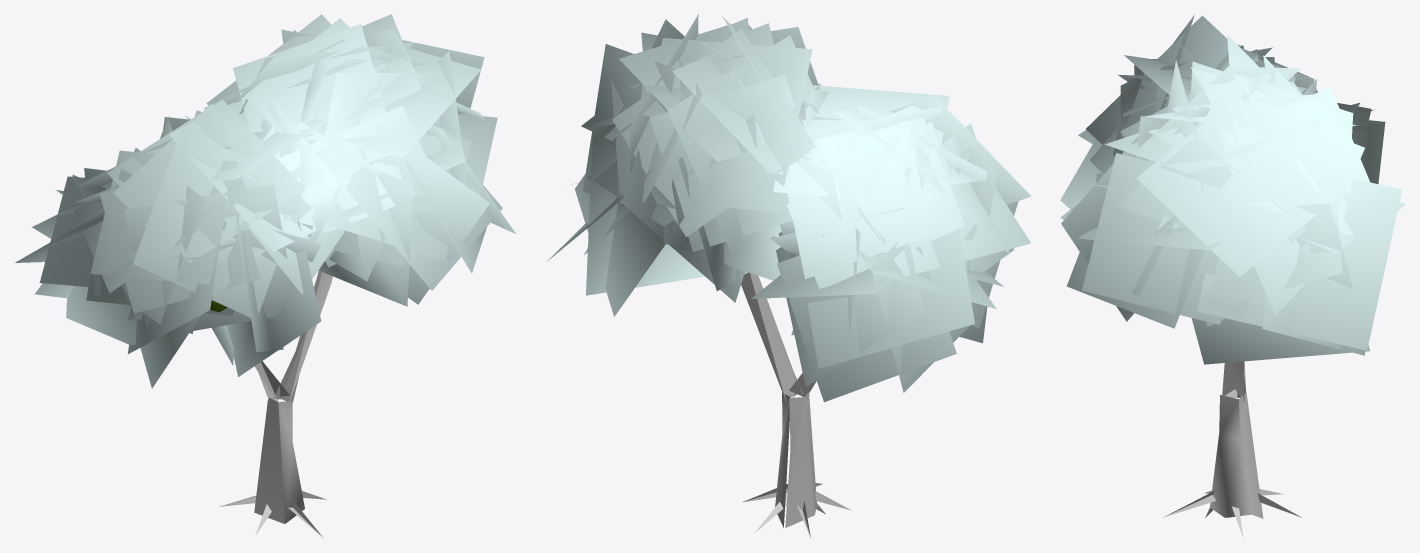
The model's file is foliage.oak_forked.gltf.
The picture shows the model from 3 angles, left to right: view 1: azimuth 30°, elevation 25°; view 2: azimuth 150°, elevation 25°; view 3: azimuth 270°, elevation 25°; orthographic projection. The views are drawn at different scales.
Parts seen in each view (by area): view 1: lod, lod.001; view 2: lod, lod.001; view 3: lod, lod.001.
Part boxes in pixels (x1,y1,x2,y2): lod: (15,14,515,388); lod.001: (219,271,332,538); lod: (547,14,1031,402); lod.001: (741,272,851,537); lod: (1060,14,1405,364); lod.001: (1163,361,1301,537).
Size of the model in its own units: 10.09 by 10.65 by 6.77.
